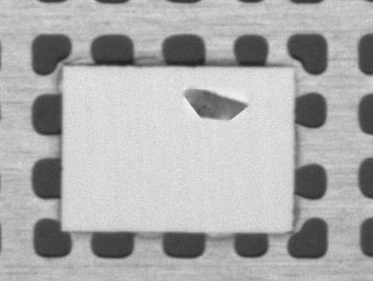DIE_INK: (239, 63, 335, 93)
